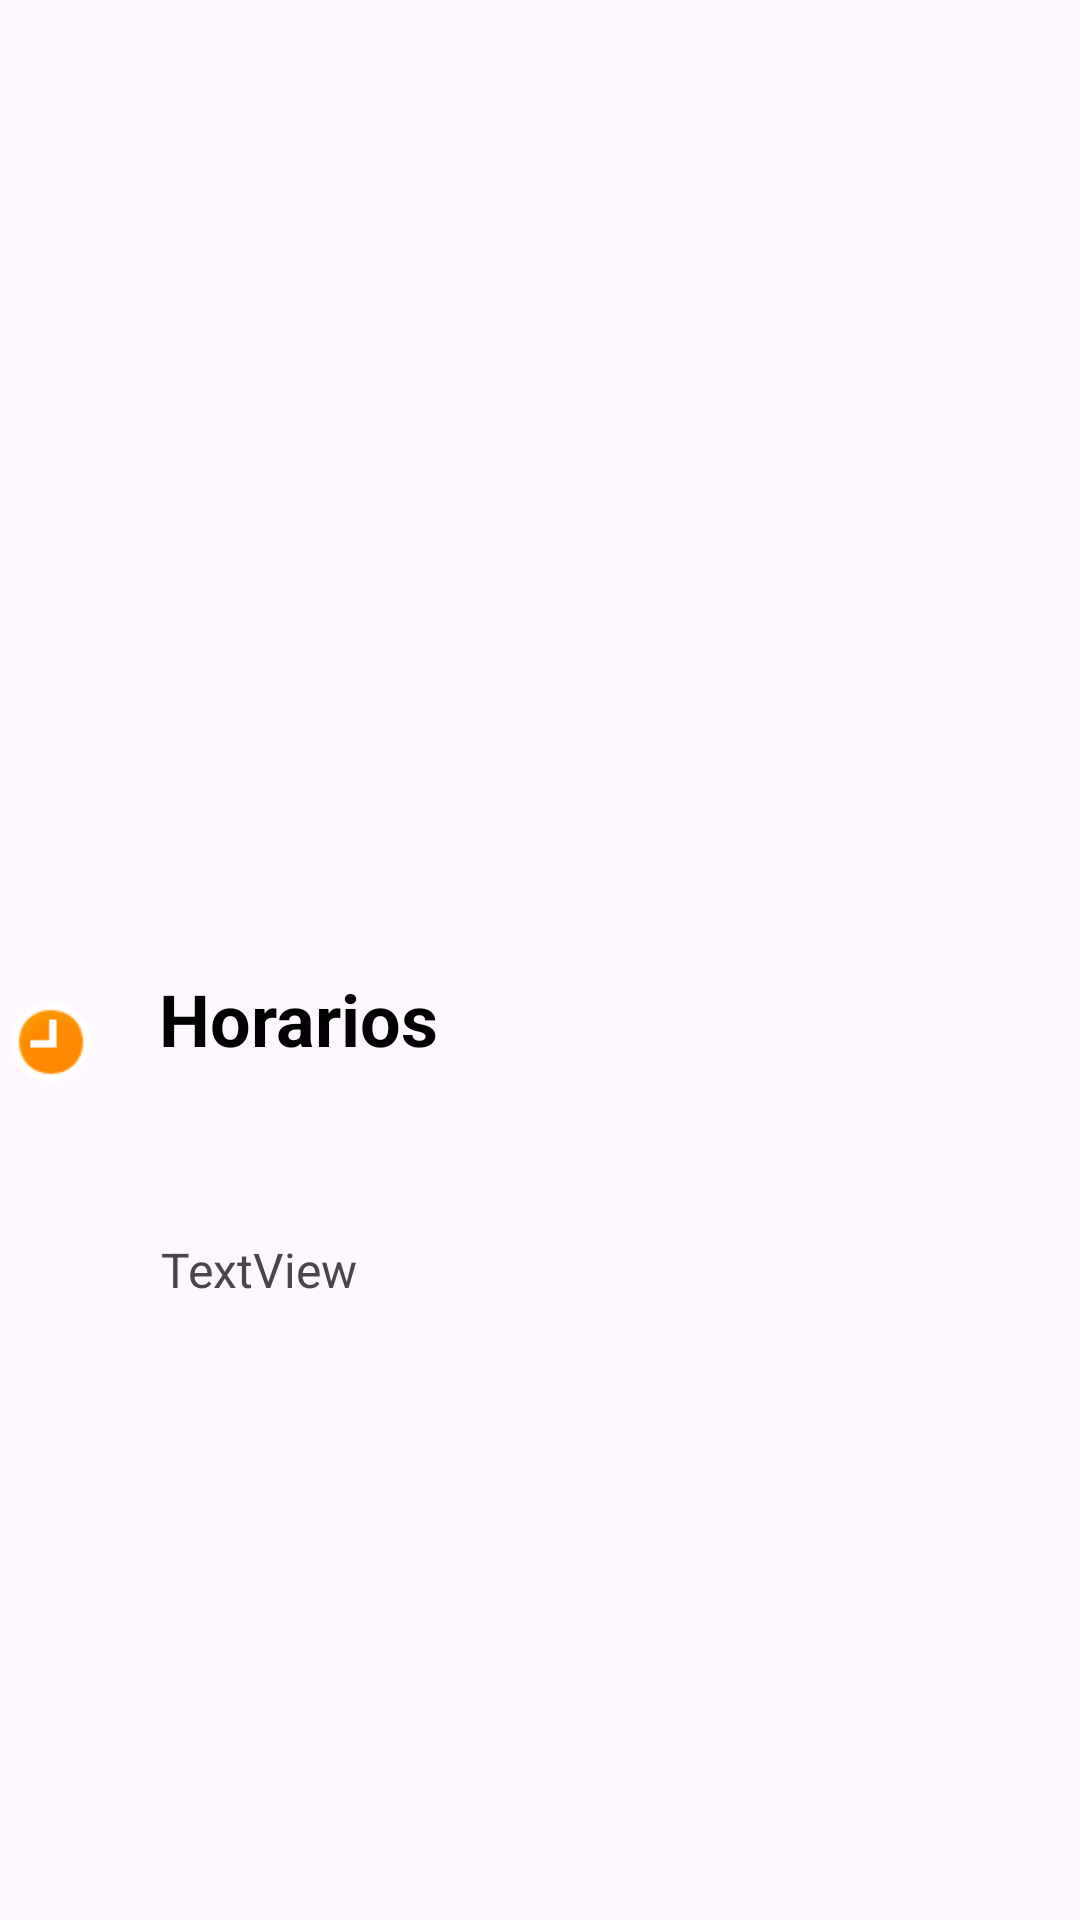

Point at icon controls on the screen. Image size 1080px x 1920px, points as point (x, y).
presence away: point (51, 1042)
